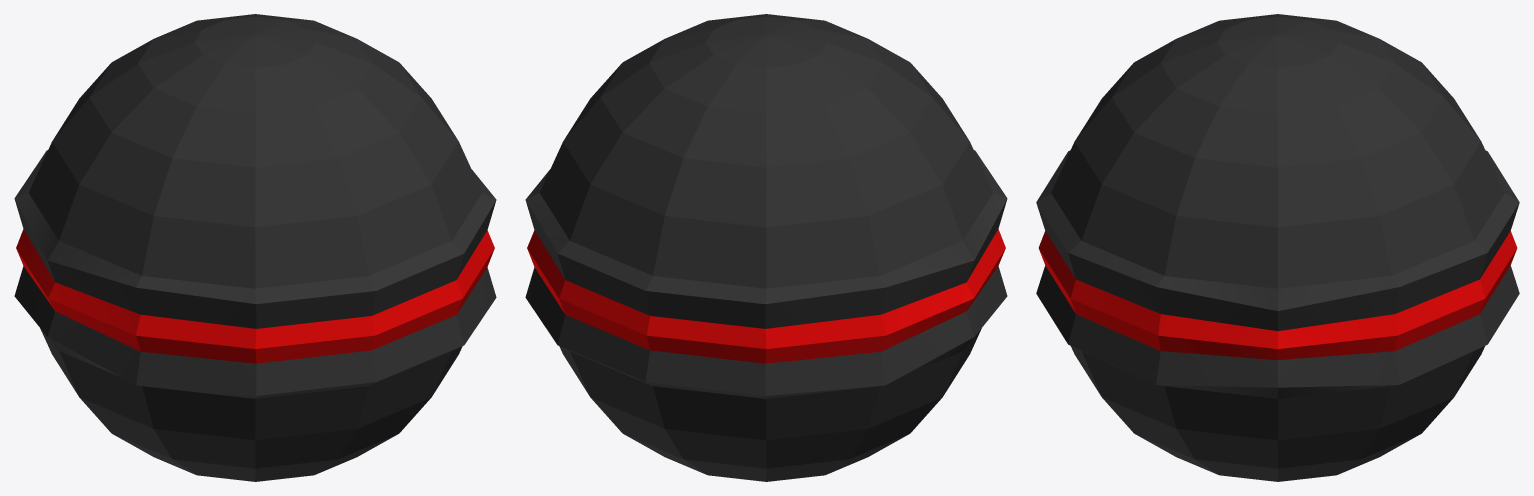
The model's file is MortarBallLvl2.fbx.
The picture shows the model from 3 angles, left to right: view 1: azimuth 30°, elevation 25°; view 2: azimuth 150°, elevation 25°; view 3: azimuth 270°, elevation 25°; orthographic projection.
Parts seen in each view (by area): view 1: MortarBallProjectileLvl2; view 2: MortarBallProjectileLvl2; view 3: MortarBallProjectileLvl2.
Part boxes in pixels (x1=…): MortarBallProjectileLvl2: x1=14, y1=14, x2=496, y2=481; MortarBallProjectileLvl2: x1=525, y1=14, x2=1007, y2=481; MortarBallProjectileLvl2: x1=1036, y1=14, x2=1519, y2=481.
Size of the model in its own units: 0.9318 by 0.9112 by 0.938.
